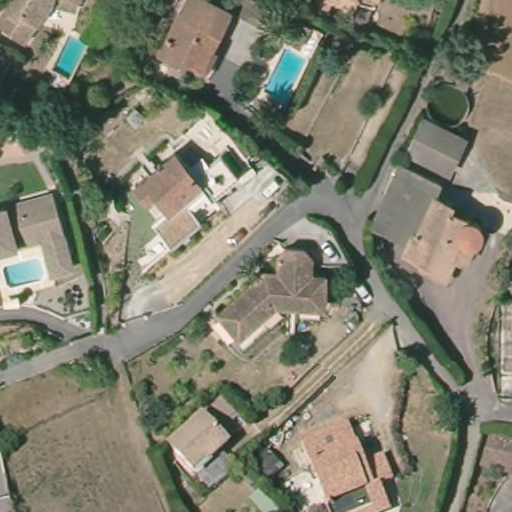pool: (263, 47, 311, 104), (54, 35, 91, 81), (1, 257, 48, 287)
